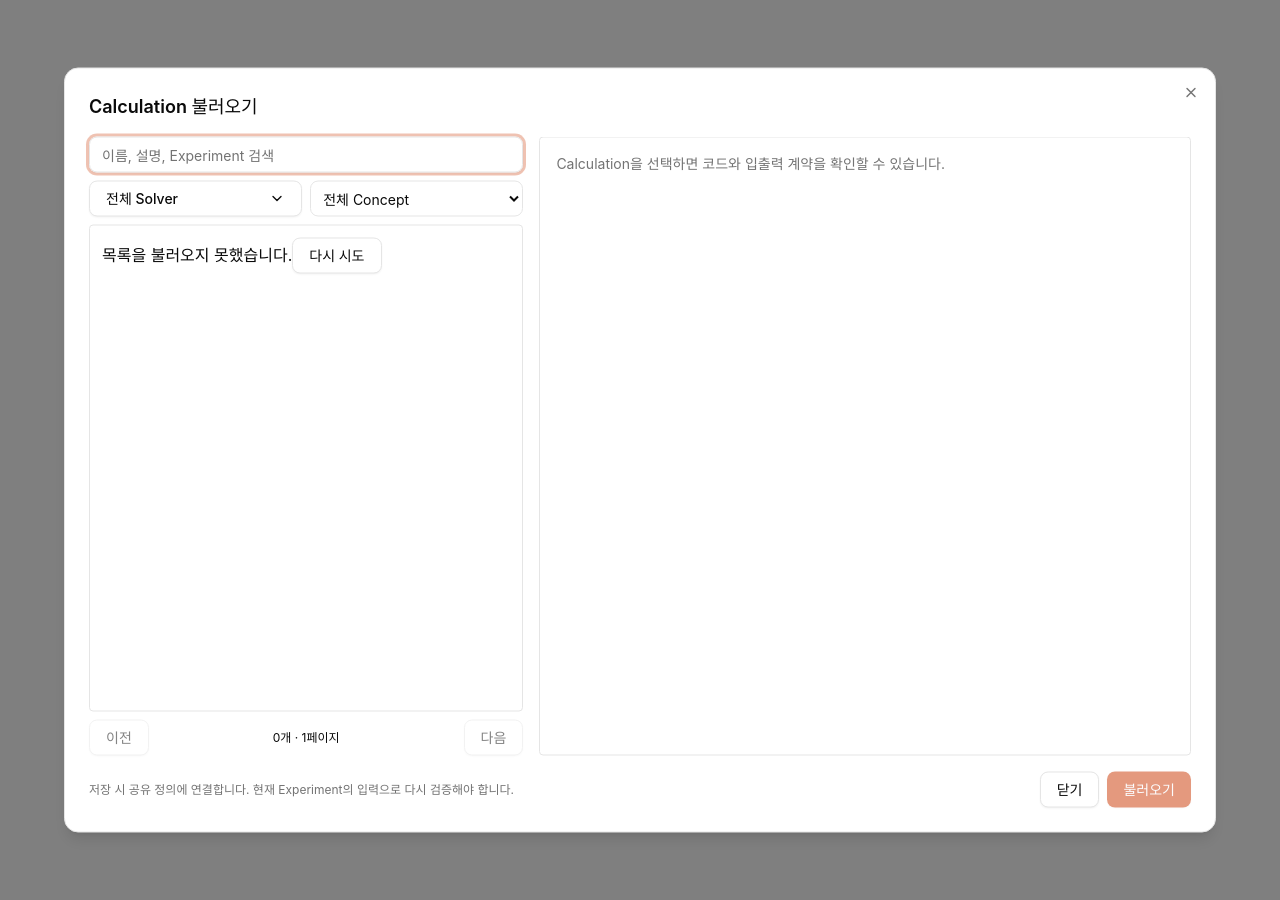
allows retrying a failed list and displays an empty search
Step 1. Click the button "다시 시도" → (337, 256), box x1=292 y1=238 x2=382 y2=274
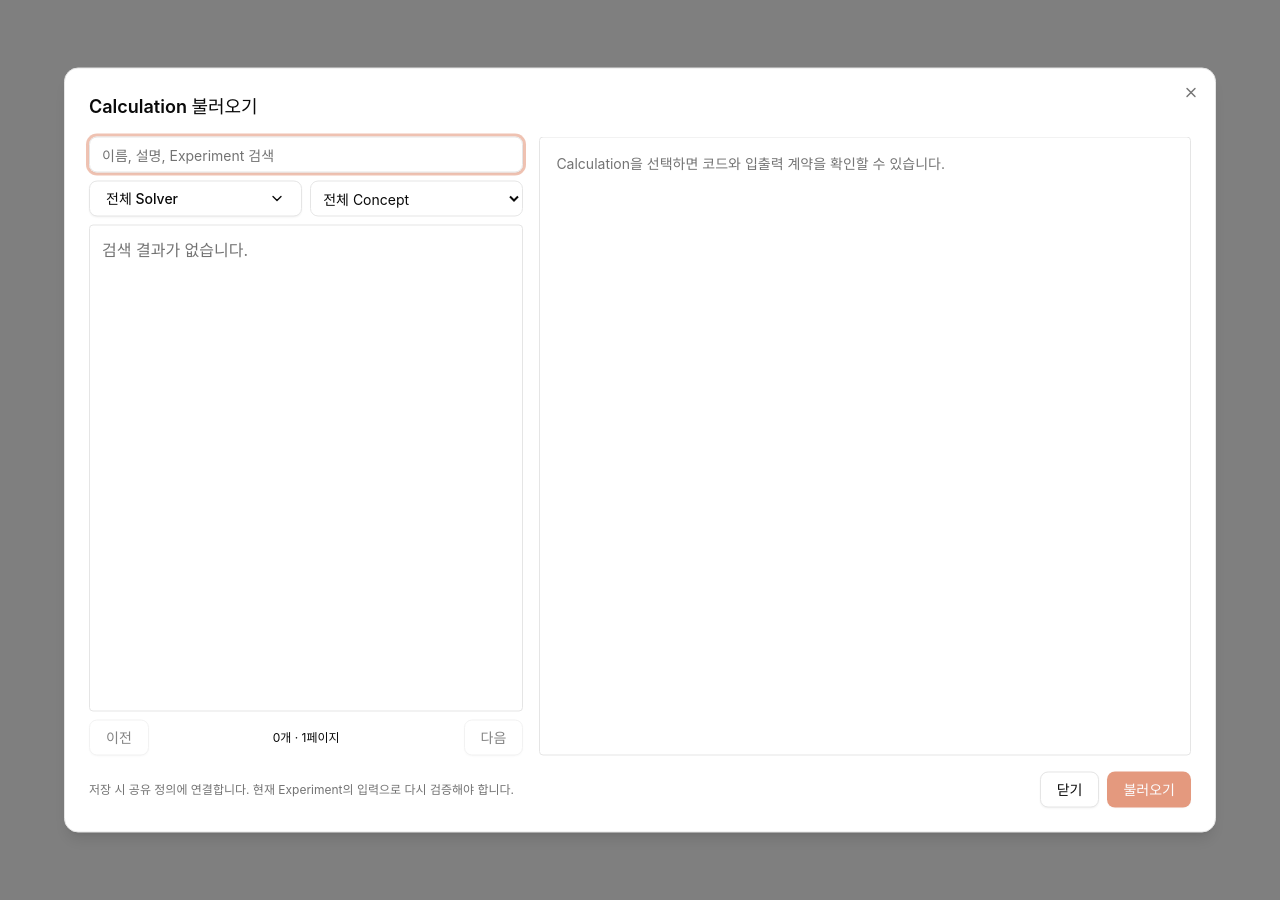
Check: the text "검색 결과가 없습니다." is shown, box x1=102 y1=240 x2=248 y2=260
